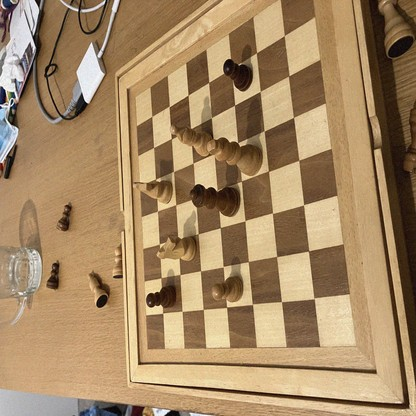bishop_white: (169, 124, 213, 155)
king_white: (207, 139, 262, 175)
knight_black: (158, 235, 197, 261), (133, 179, 173, 202)
pawn_black: (224, 60, 252, 90), (147, 288, 177, 307), (57, 202, 70, 230), (48, 263, 58, 287)
pawn_white: (214, 277, 243, 302), (113, 247, 123, 279)
queen_black: (190, 185, 241, 215)
queen_white: (88, 273, 109, 308)
